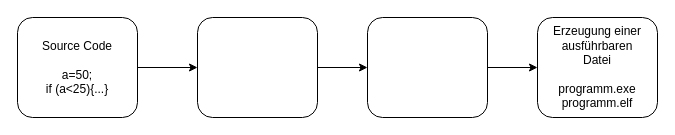
Image size: 675x135. Some labels were removed from this diagram. The box of each missing label's shape, as (x1, y1, x2, y2) in pixels:
Machine Code Generator mov R1,R8(ebp) inc R1 mov R4, R1: (366, 16, 488, 118)
Syntax / Semantik Analyse: (196, 16, 318, 118)
